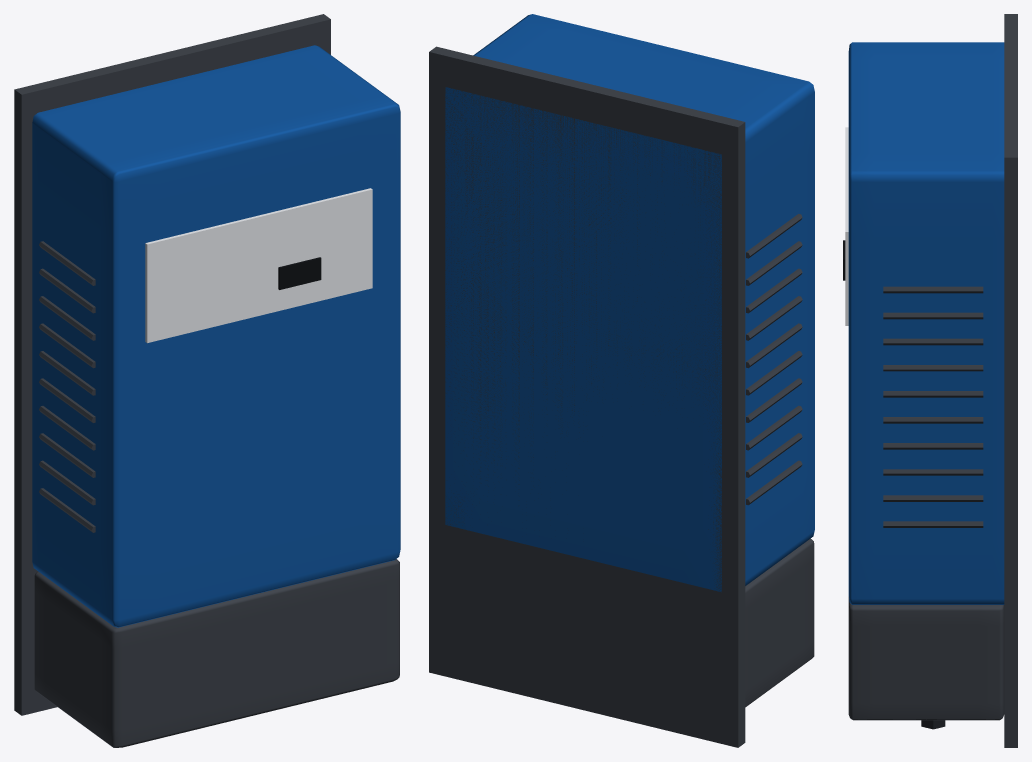
Rendered from victron_multiplus_ii_12_3000.mid.glb.
The picture shows the model from 3 angles, left to right: view 1: azimuth 30°, elevation 25°; view 2: azimuth 150°, elevation 25°; view 3: azimuth 270°, elevation 25°; orthographic projection. The views are drawn at different scales.
Parts seen in each view (by area): view 1: victron_multiplus_ii_12_3000; view 2: victron_multiplus_ii_12_3000; view 3: victron_multiplus_ii_12_3000.
Part boxes in pixels (bbox=[...]): victron_multiplus_ii_12_3000: bbox=[14, 14, 400, 747]; victron_multiplus_ii_12_3000: bbox=[429, 14, 814, 747]; victron_multiplus_ii_12_3000: bbox=[843, 14, 1017, 747].
Size of the model in its own units: 0.295 by 0.566 by 0.152.
